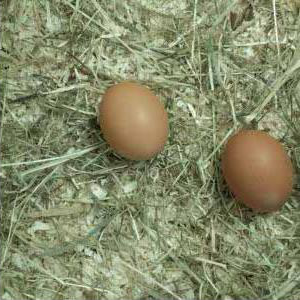egg: (221, 130, 294, 214), (99, 82, 168, 161)
